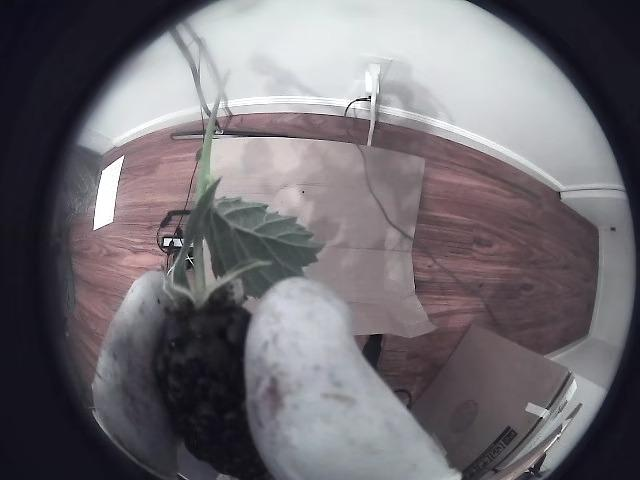berry: (153, 97, 269, 479)
gripper: (245, 277, 460, 479), (92, 271, 178, 479)
lense: (0, 0, 214, 479), (469, 0, 639, 479)
